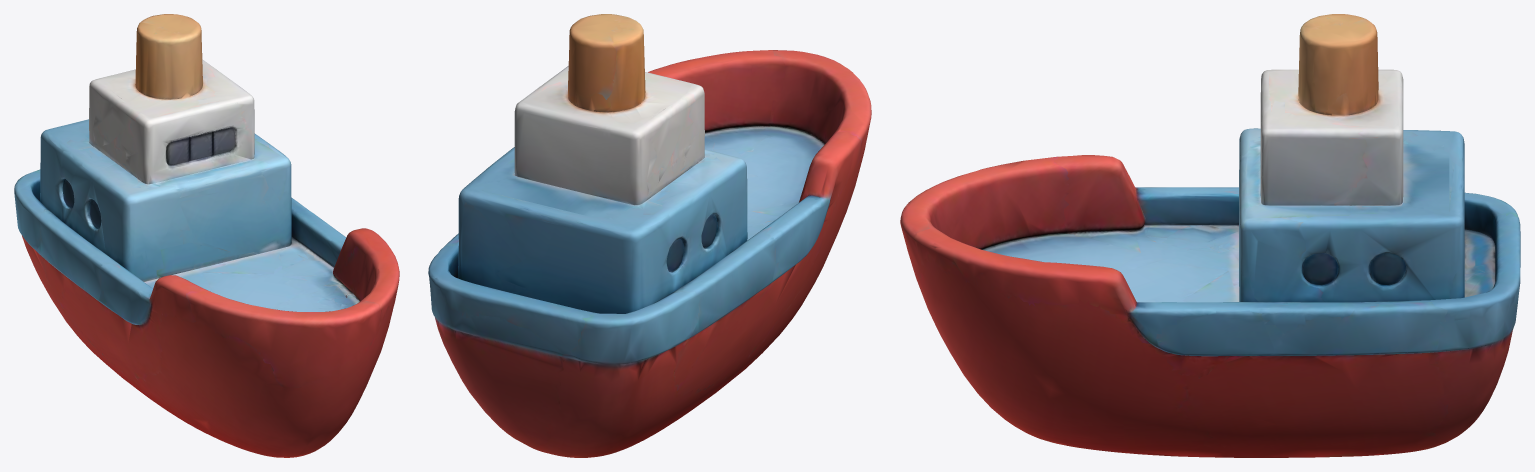
The model's file is ship_pbr.glb.
3 views of the same model, side by side, from view 1: azimuth 30°, elevation 25°; view 2: azimuth 150°, elevation 25°; view 3: azimuth 270°, elevation 25° (orthographic). The views are drawn at different scales.
Parts seen in each view (by area): view 1: model; view 2: model; view 3: model.
Part boxes in pixels (x1=…): model: x1=14, y1=14, x2=399, y2=457; model: x1=428, y1=14, x2=871, y2=457; model: x1=900, y1=14, x2=1520, y2=457.
Size of the model in its own units: 0.9009 by 1.34 by 1.89.
Materials: 1 (1 with a texture image).
